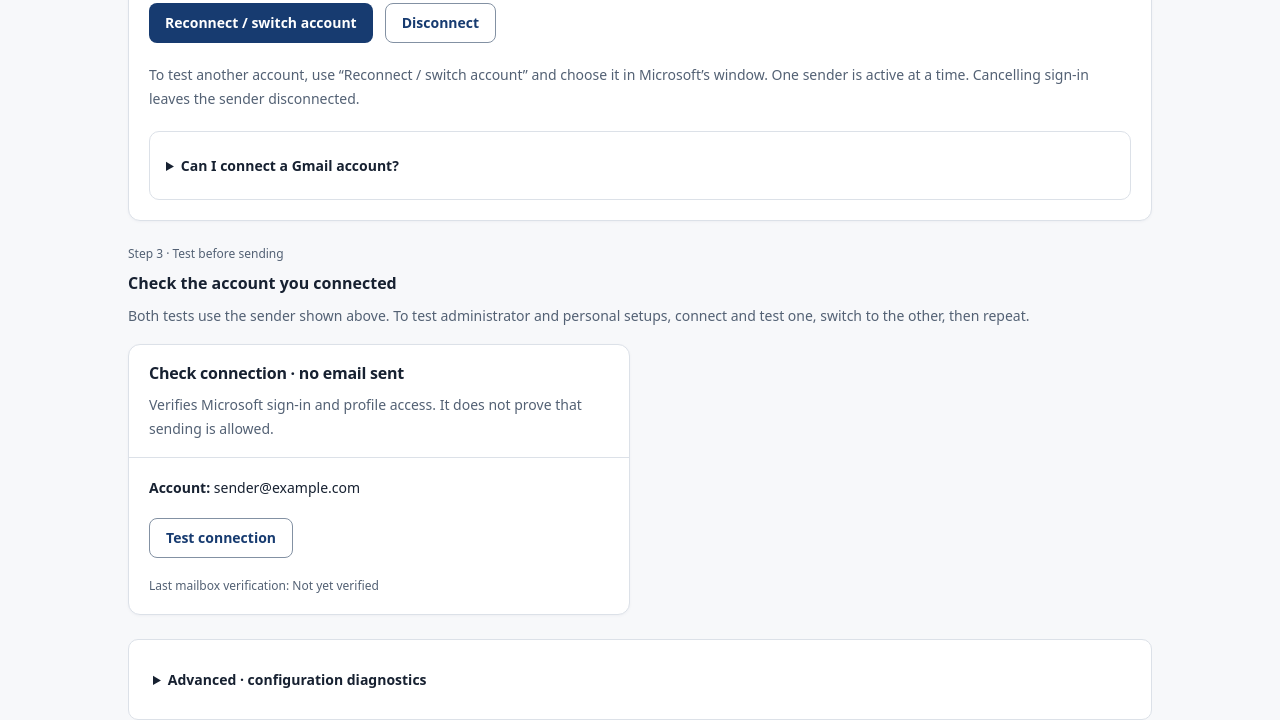
Test: user Microsoft configuration choices › does not report a failed connection test as successful
(page scrolled)
Click the button "Test connection" at {"x": 221, "y": 538}, box [149,518,293,558]
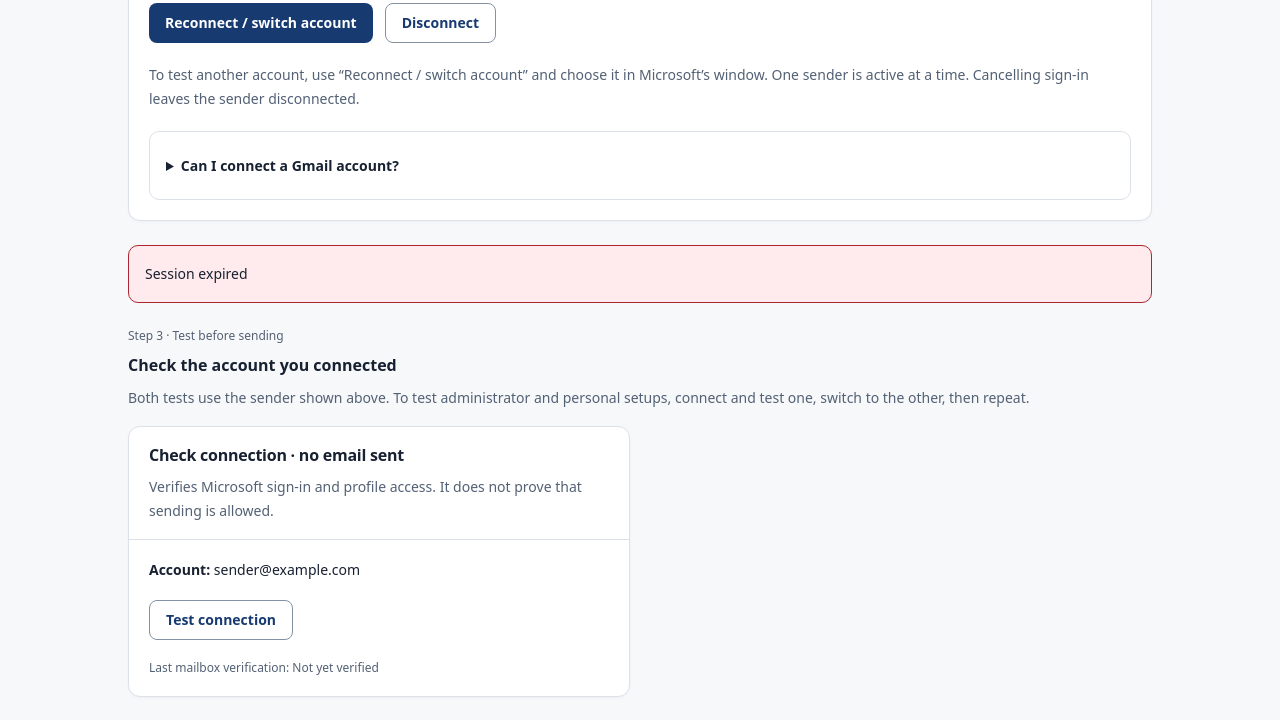
Expected: the message reads "Session expired", [145,264,248,283]
